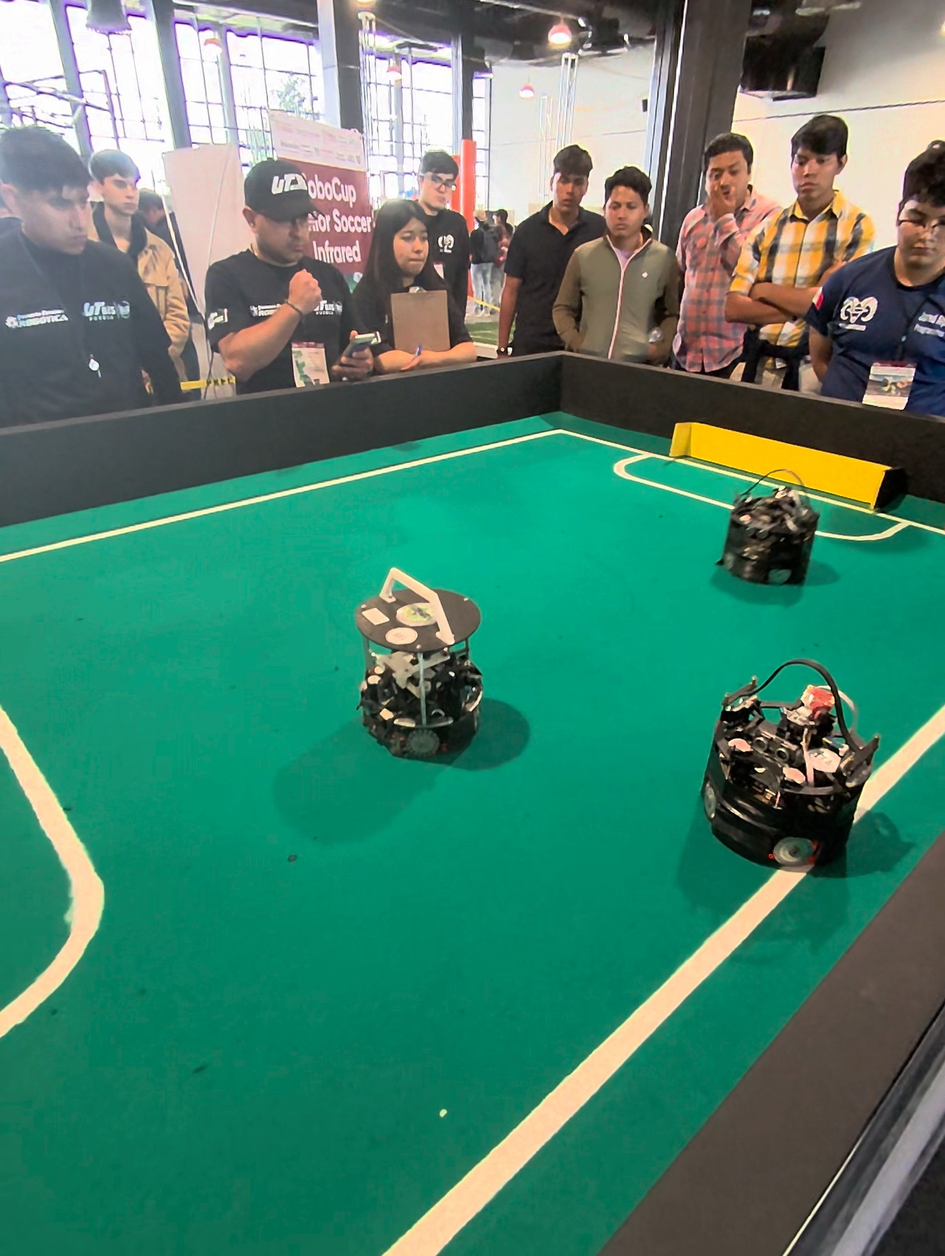Robot: (707, 643, 888, 880), (350, 555, 489, 780), (715, 462, 821, 591)
